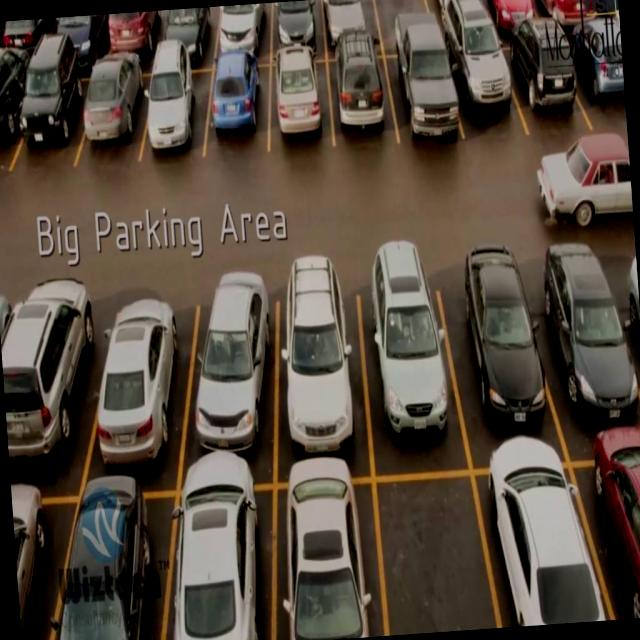car: (350, 260, 468, 468), (0, 264, 108, 490), (520, 265, 640, 455), (274, 260, 374, 474), (179, 272, 279, 481), (161, 478, 287, 640), (55, 482, 184, 640), (272, 474, 386, 640), (480, 460, 591, 628), (450, 271, 550, 457), (94, 288, 185, 484), (8, 59, 92, 182), (443, 17, 521, 146), (323, 40, 398, 174), (500, 15, 576, 144), (384, 38, 464, 158), (584, 455, 640, 621), (204, 52, 282, 166), (263, 50, 338, 166), (86, 52, 150, 185), (562, 17, 628, 141), (149, 58, 211, 166), (0, 48, 32, 193), (216, 2, 280, 72), (163, 6, 226, 72), (268, 0, 328, 66), (320, 0, 380, 59), (622, 272, 640, 443), (484, 0, 542, 51)
free: (376, 476, 486, 636), (374, 0, 434, 52)
